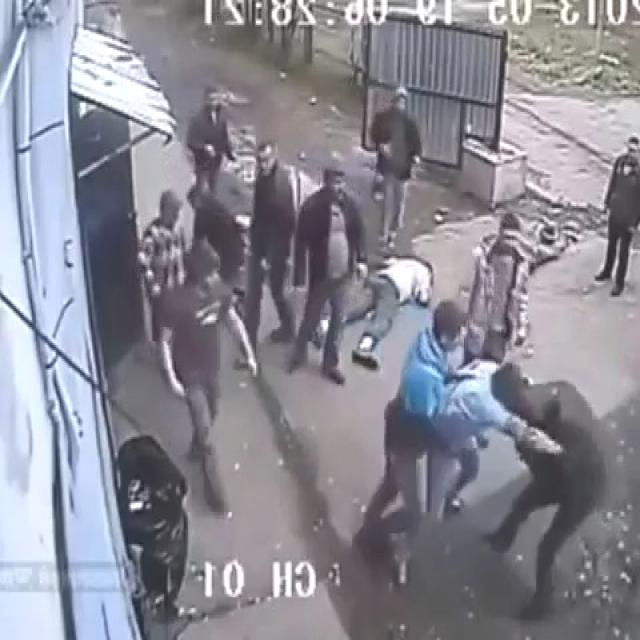fight: (358, 287, 597, 535)
